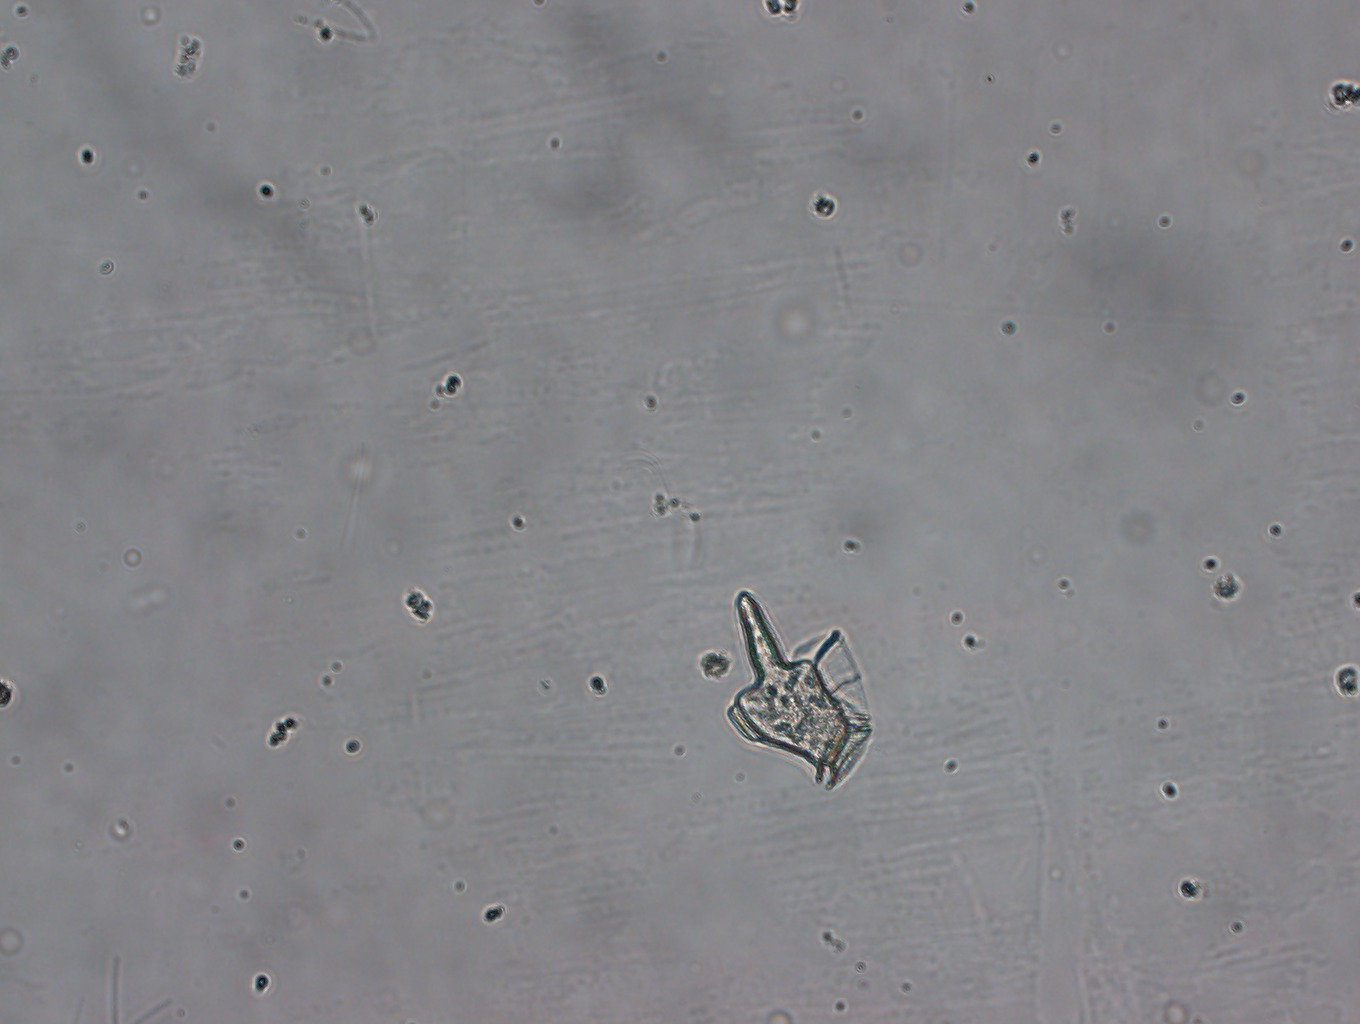dinophysis caudata: (724, 591, 873, 793)
